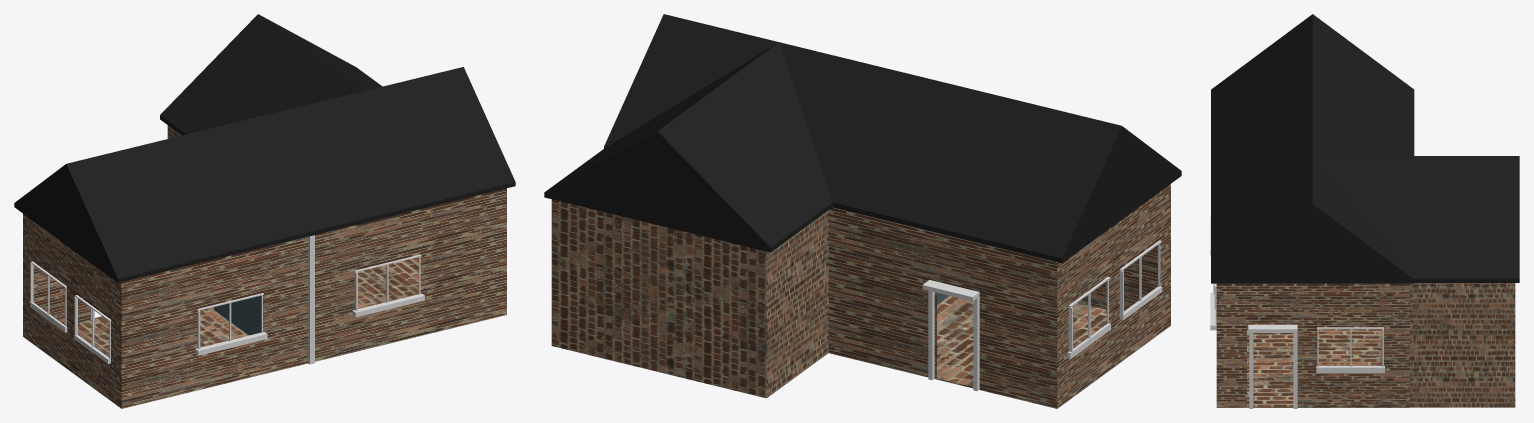
The model's file is bung3.glb.
The picture shows the model from 3 angles, left to right: view 1: azimuth 30°, elevation 25°; view 2: azimuth 150°, elevation 25°; view 3: azimuth 270°, elevation 25°; orthographic projection. The views are drawn at different scales.
Parts seen in each view (by area): view 1: Cube.017; view 2: Cube.017; view 3: Cube.017.
Part boxes in pixels (<box>): Cube.017: <box>14,14,515,408</box>; Cube.017: <box>544,14,1181,408</box>; Cube.017: <box>1210,14,1519,408</box>.
Size of the model in its own units: 35.9 by 18 by 24.4.
Materials: 4 (1 with a texture image).
